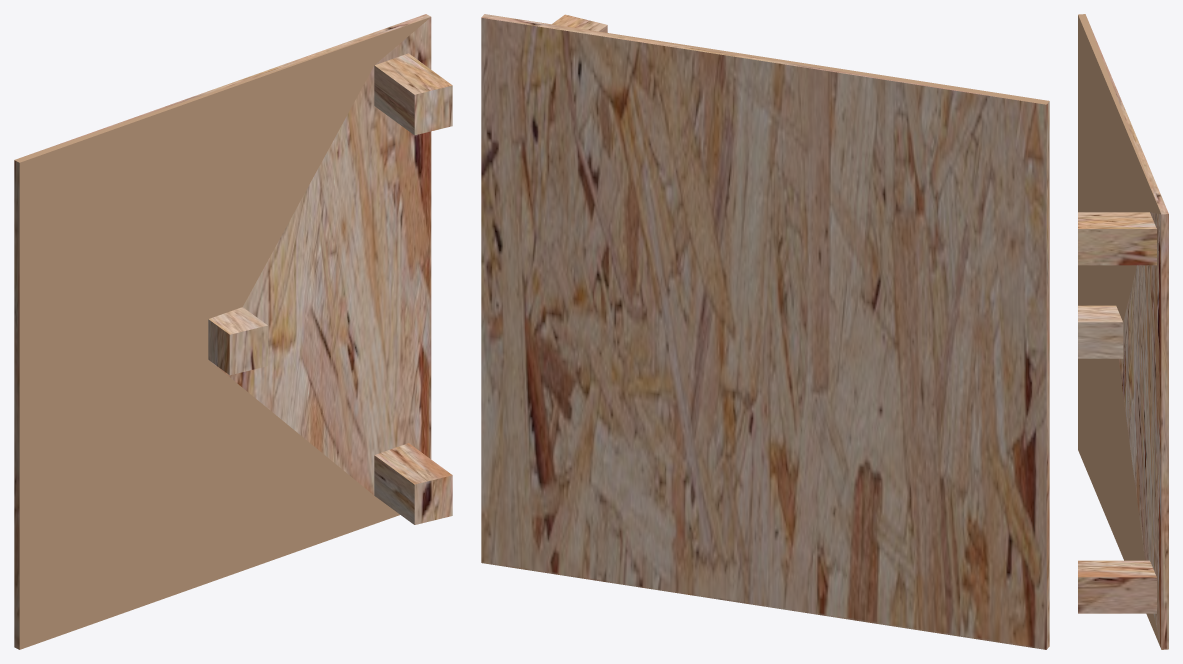
3 views of the same model, side by side, from view 1: azimuth 30°, elevation 25°; view 2: azimuth 150°, elevation 25°; view 3: azimuth 270°, elevation 25° (orthographic). The views are drawn at different scales.
Parts seen in each view (by area): view 1: base_link; view 2: base_link; view 3: base_link.
Part boxes in pixels (box(x1,y1,x2,y2)): base_link: box(14, 14, 452, 649); base_link: box(481, 14, 1049, 649); base_link: box(1078, 14, 1168, 649).
Bounding box in the file's own units: 1185 × 227 × 1200.
Materials: 1 (1 with a texture image).
